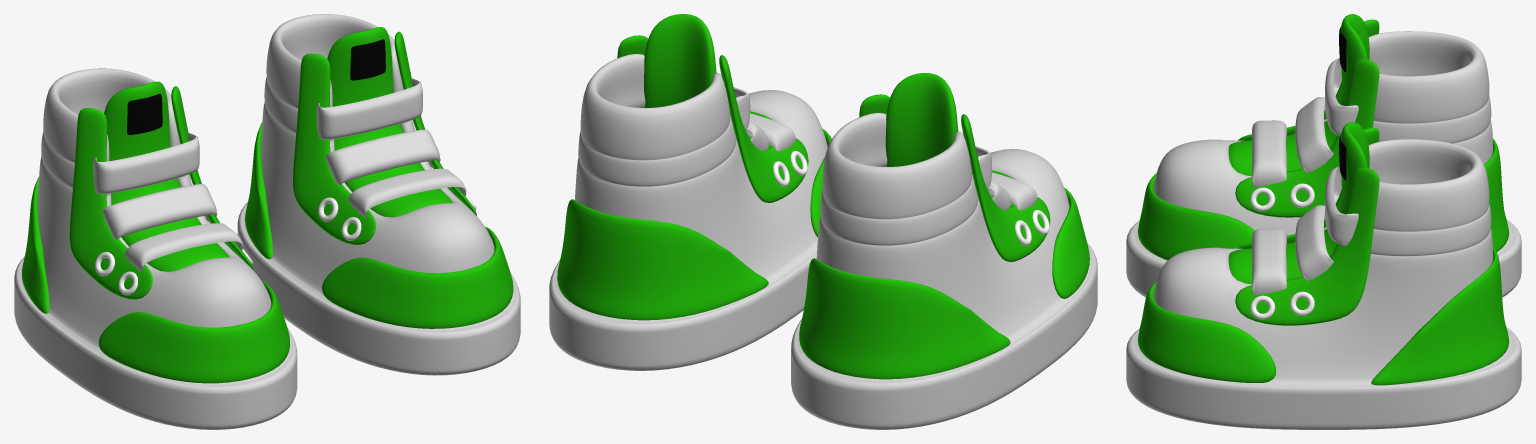
Rendered from SHOES.fbx.
The picture shows the model from 3 angles, left to right: view 1: azimuth 30°, elevation 25°; view 2: azimuth 150°, elevation 25°; view 3: azimuth 270°, elevation 25°; orthographic projection. The views are drawn at different scales.
Visible parts, largest first — view 1: shoe.001, shoe, part2, part2.001, part4, part4.001, part, part.001, Object_17.001, Object_17.004, Object_17, Object_17.003 (+6 smaller); view 2: shoe.001, shoe, part3, part3.001, part.001, part, part4, part4.001, part2.001, Object_17.002, Object_17.005, part2; view 3: shoe, shoe.001, part3, part4, part2, part4.001, part2.001, part.001, part, Object_17.002, Object_17.005, Object_17.004 (+8 smaller).
Boxes of the visible parts, x1,y1,x2,y2 form: shoe.001: (14,68,297,429); shoe: (237,14,520,375); part2: (322,227,513,328); part2.001: (98,281,289,383); part4: (292,31,476,244); part4.001: (69,86,253,299); part: (327,27,452,217); part.001: (104,81,228,271); Object_17.001: (326,129,440,185); Object_17.004: (102,184,217,240); Object_17: (316,78,422,139); Object_17.003: (93,132,199,194); shoe.001: (791,113,1097,429); shoe: (549,54,827,370); part3: (557,199,768,320); part3.001: (799,258,1010,379); part.001: (885,73,1014,206); part: (644,14,772,147); part4: (617,35,808,202); part4.001: (859,94,1050,261); part2.001: (1052,188,1089,298); Object_17.002: (748,113,795,151); Object_17.005: (990,172,1037,210); part2: (810,128,831,237); shoe: (1126,139,1521,429); shoe.001: (1126,31,1521,297); part3: (1371,247,1509,385); part4: (1235,127,1379,325); part2: (1138,281,1275,382); part4.001: (1235,19,1379,217); part2.001: (1138,173,1254,260); part.001: (1228,14,1369,176); part: (1228,122,1369,284); Object_17.002: (1252,228,1286,294); Object_17.005: (1252,120,1286,186); Object_17.004: (1295,97,1333,172).
Bounding box in the file's own units: 210 × 129 × 177.
